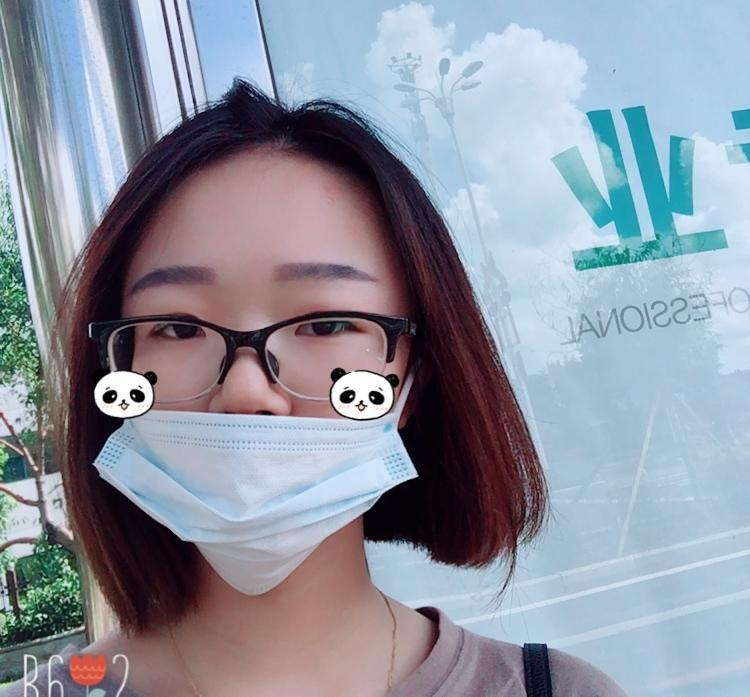WRONG: (96, 253, 433, 590)
